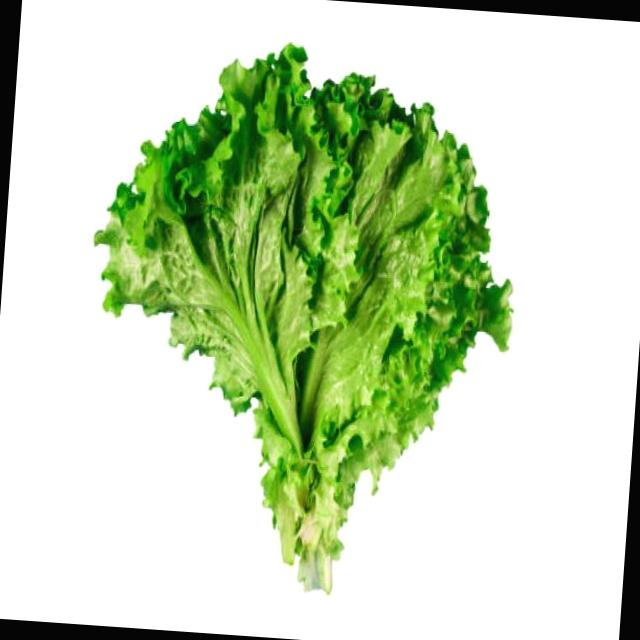Lettuce-Ready-to-Harvest: (91, 44, 514, 594)
